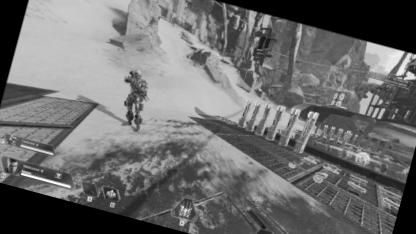Target: (113, 67, 155, 133)
